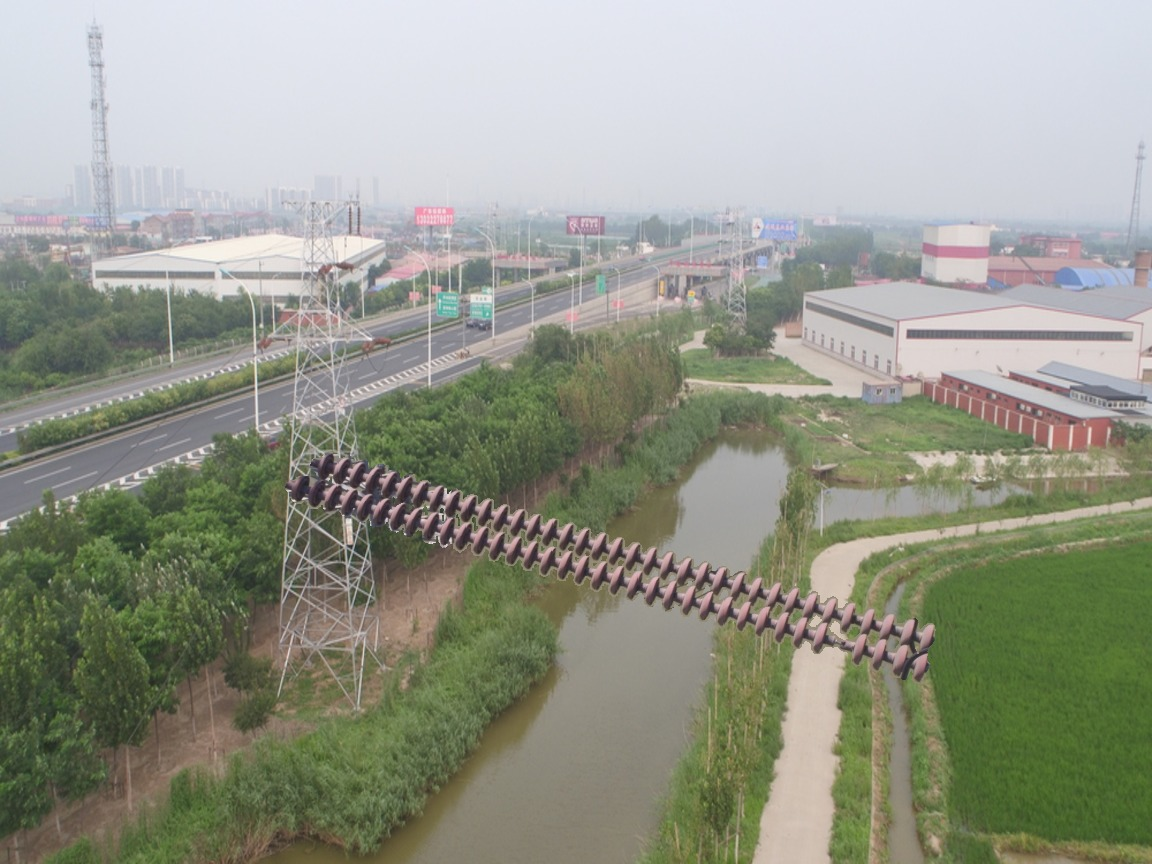defect: (809, 619, 872, 665)
